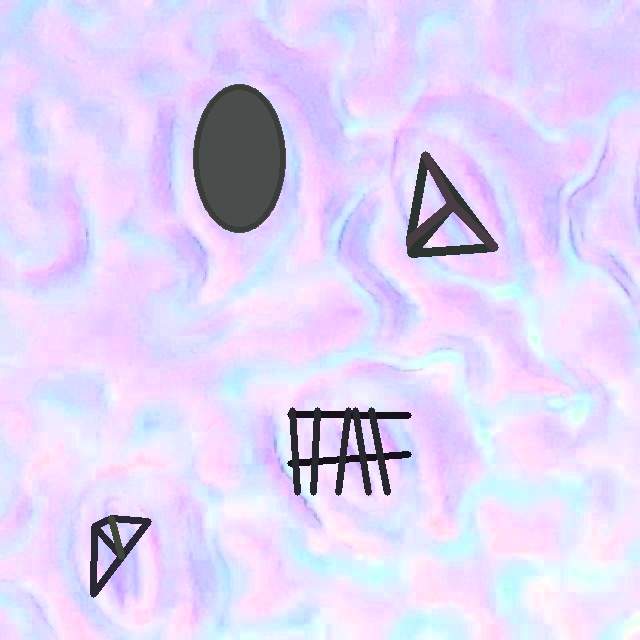close: (193, 84, 285, 233)
open: (288, 407, 410, 495), (406, 151, 498, 257), (92, 516, 150, 597)
